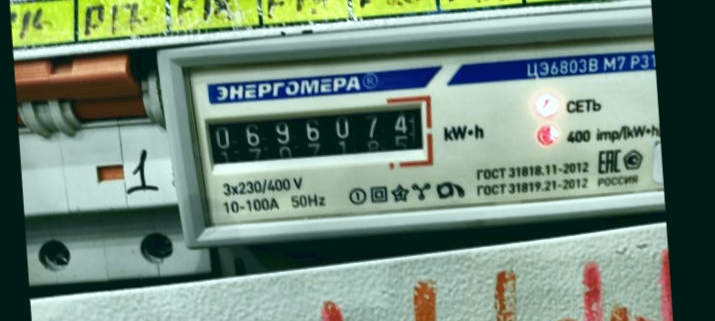0: (207, 123, 228, 148), (329, 113, 347, 139)
4: (387, 109, 404, 132)
5: (390, 134, 407, 150)
6: (300, 115, 319, 142), (239, 121, 258, 146)
7: (359, 112, 378, 138)
9: (269, 118, 287, 145)
screen: (190, 90, 434, 175)
